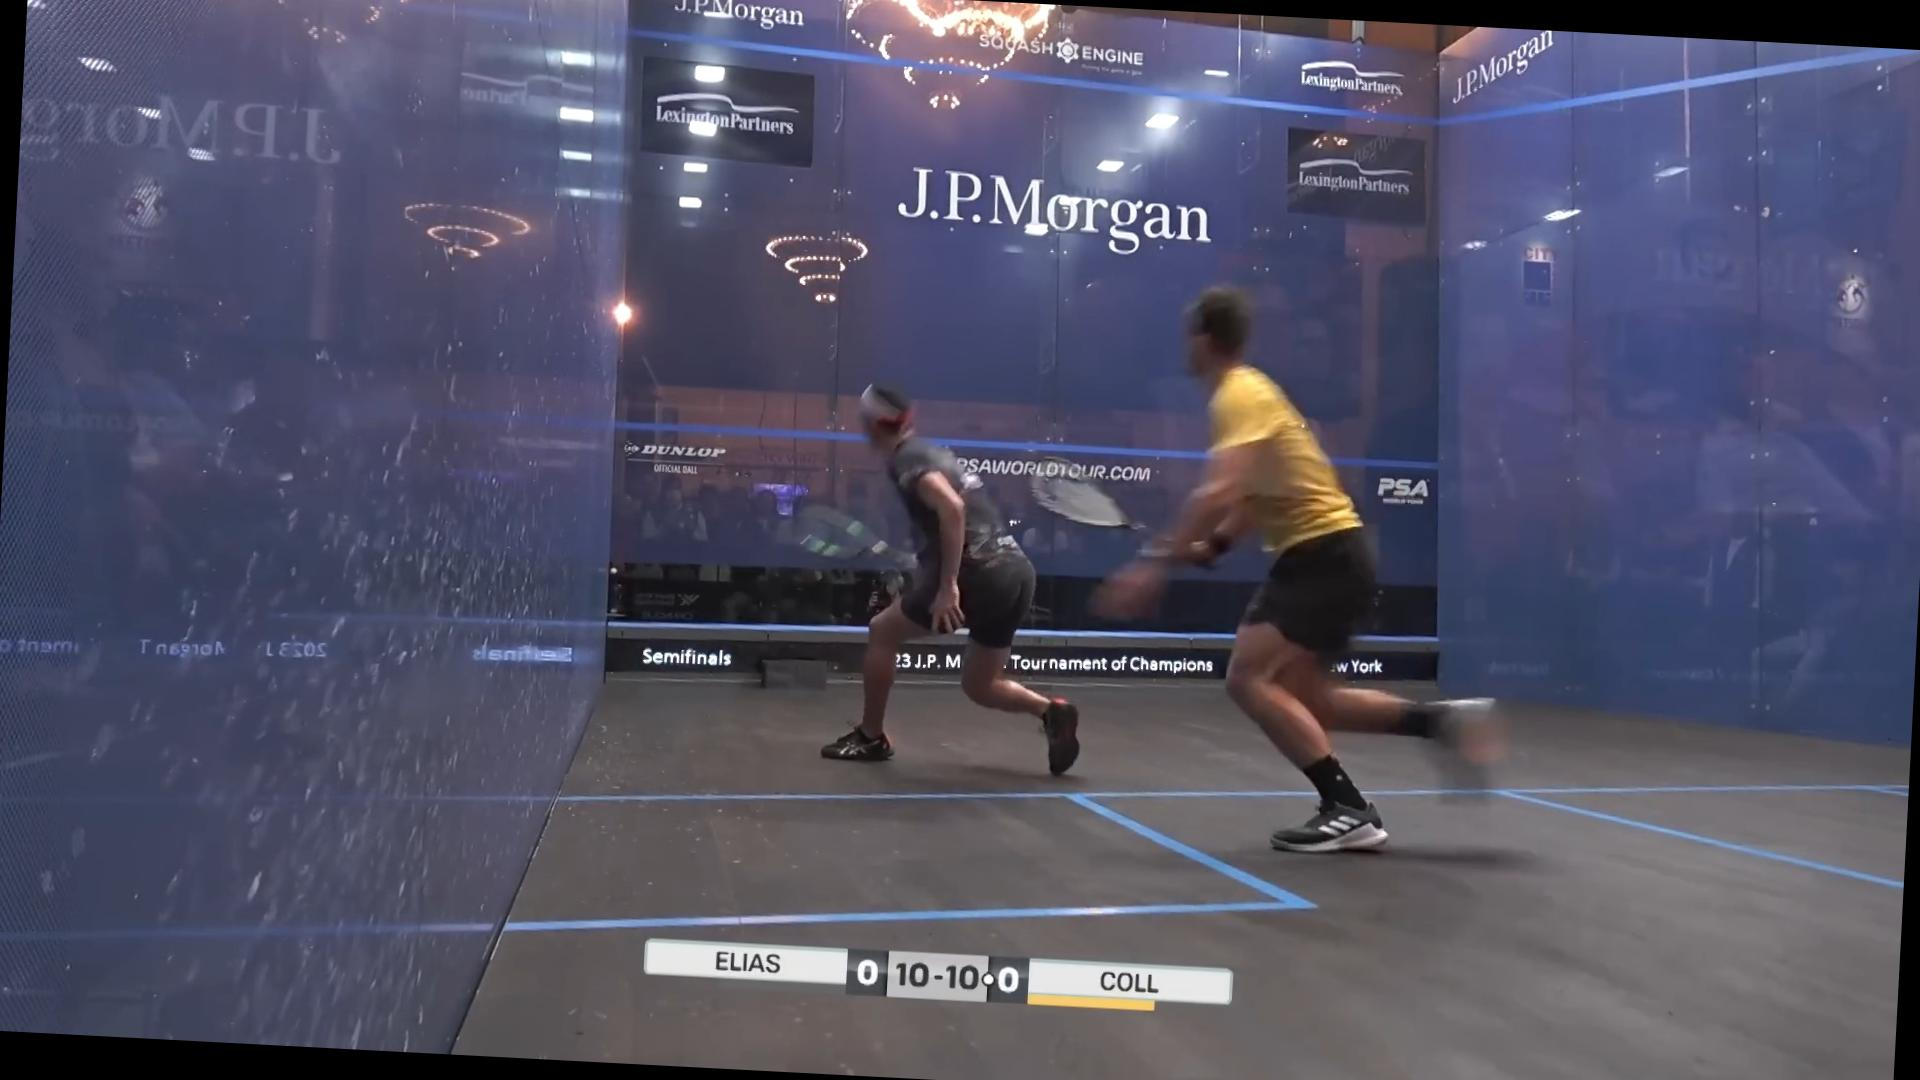Racket: (1009, 451, 1163, 546), (785, 489, 923, 575)
